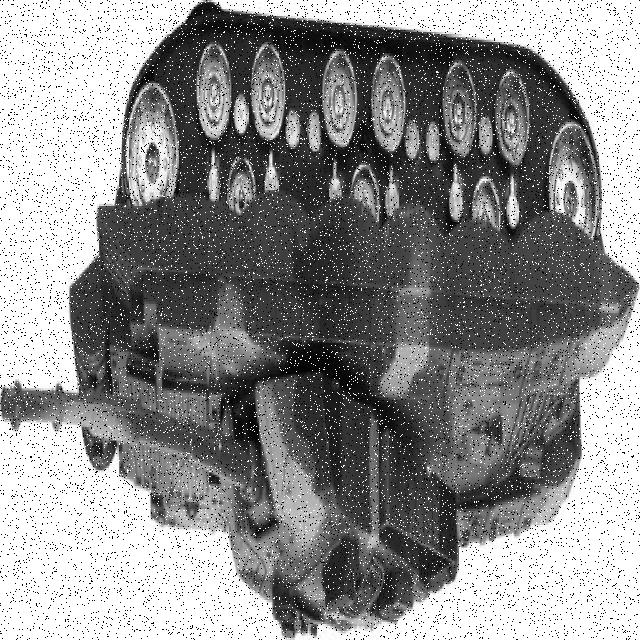MIL_MBT: (5, 35, 621, 620)
